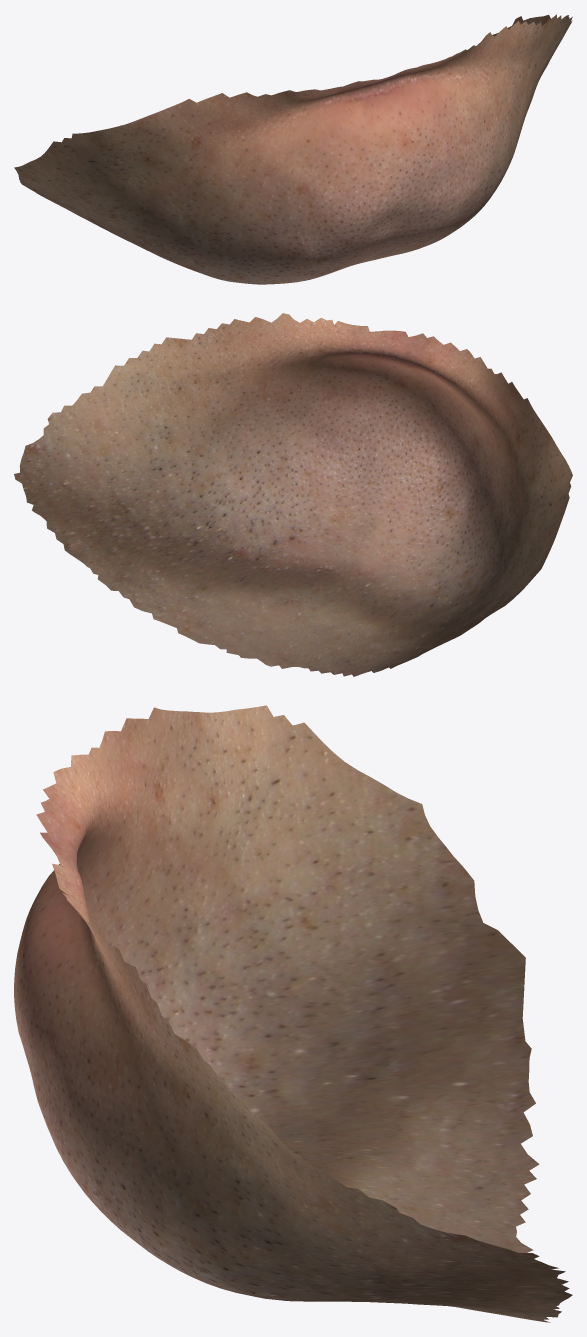
The model's file is chin03.obj.
The picture shows the model from 3 angles, top to bottom: view 1: azimuth 30°, elevation 25°; view 2: azimuth 150°, elevation 25°; view 3: azimuth 270°, elevation 25°; orthographic projection. The views are drawn at different scales.
Parts seen in each view (by area): view 1: default; view 2: default; view 3: default.
Boxes of the visible parts, x1,y1,x2,y2 form: default: [14, 14, 572, 284]; default: [14, 313, 572, 676]; default: [14, 705, 572, 1322].
Bounding box in the file's own units: 77.14 × 34.91 × 40.69.
1 material, 1 textured.
